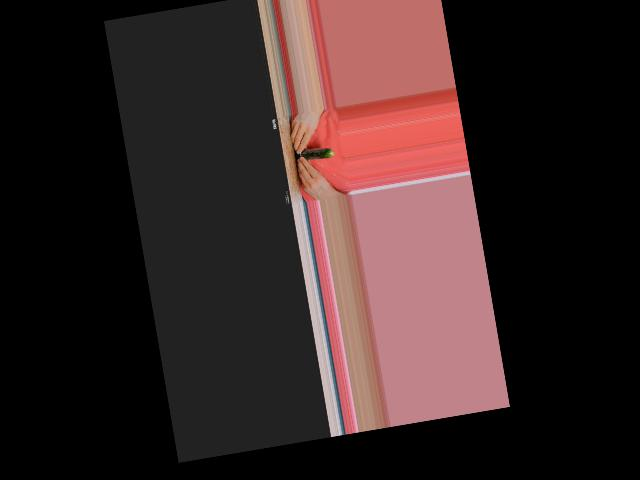cucumber: (294, 145, 334, 164)
